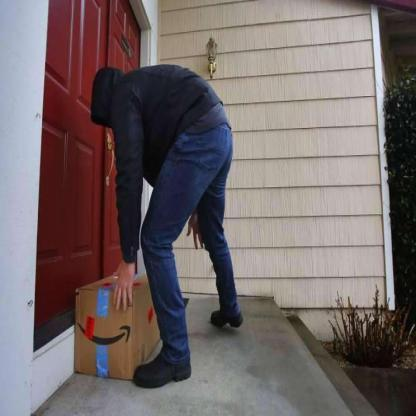package: (74, 270, 171, 383)
